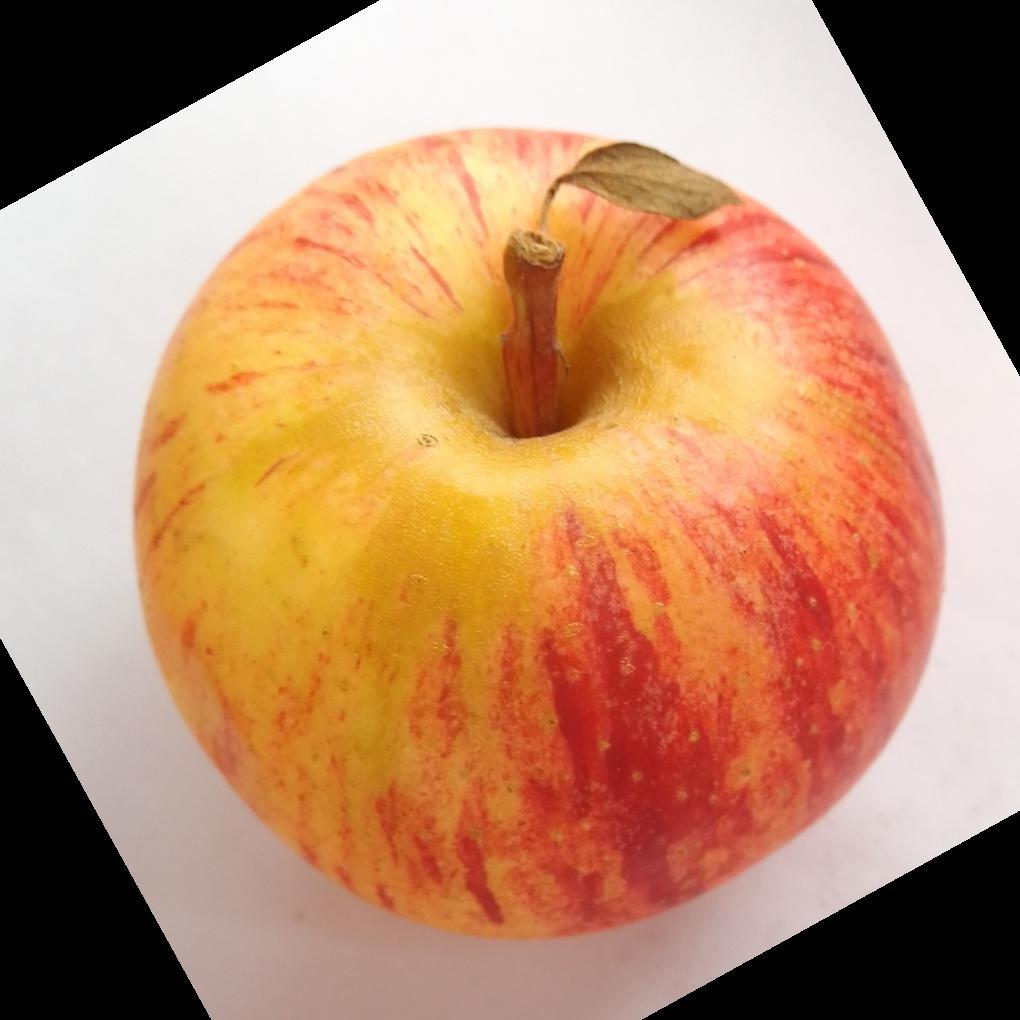FreshGuava: (128, 126, 947, 945)
